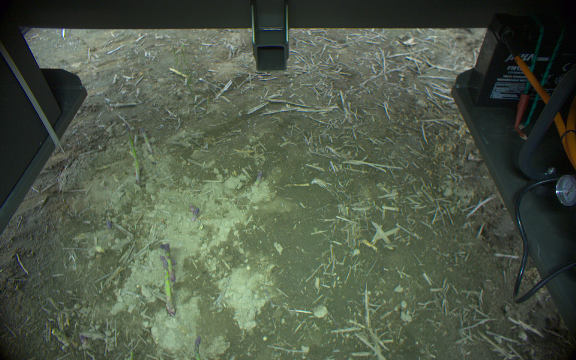aspa: (156, 257, 176, 312), (122, 133, 141, 186), (163, 243, 177, 280), (139, 125, 154, 159), (103, 214, 115, 232)
